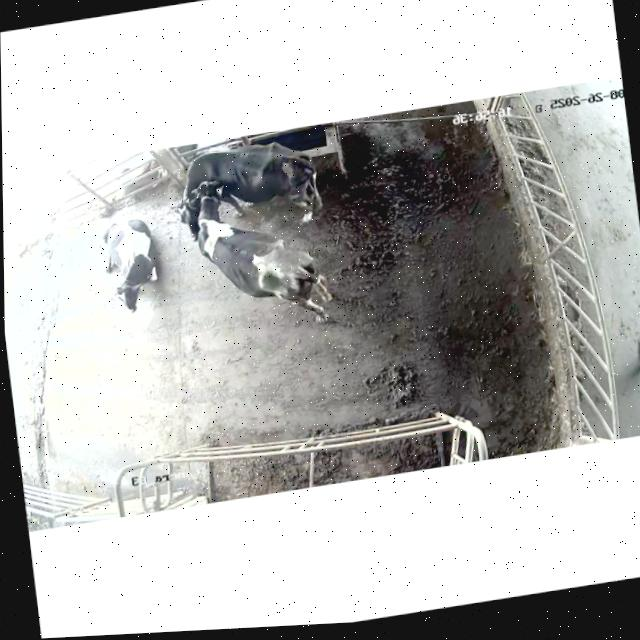stand: (186, 162, 332, 343), (169, 130, 323, 244)
